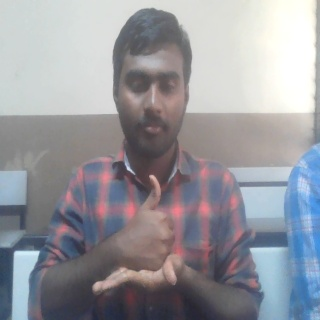Face: (110, 8, 192, 162)
Help: (88, 175, 186, 302)
